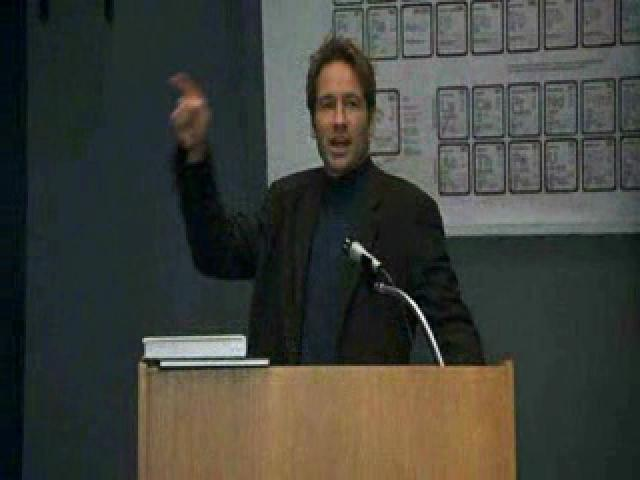T: (144, 31, 490, 385)
